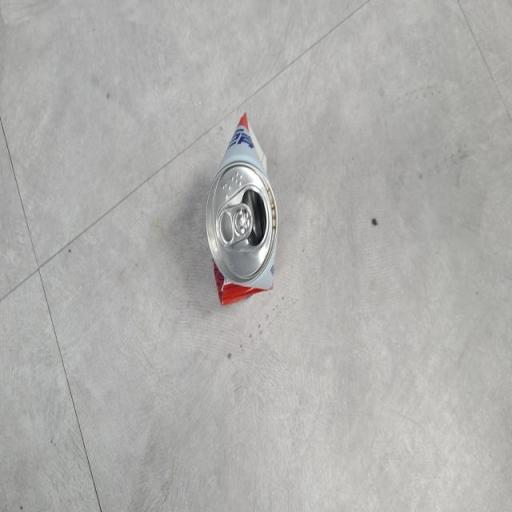metal: (198, 97, 288, 338)
